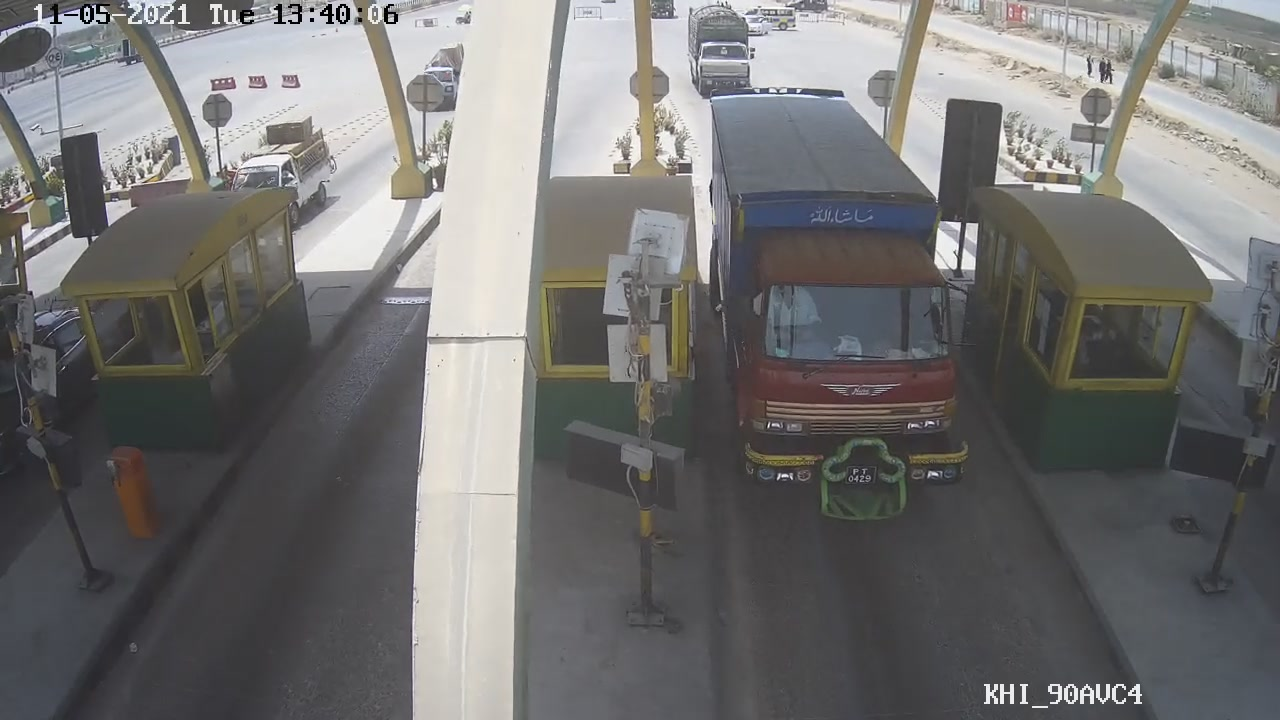F3: (698, 146, 999, 538)
